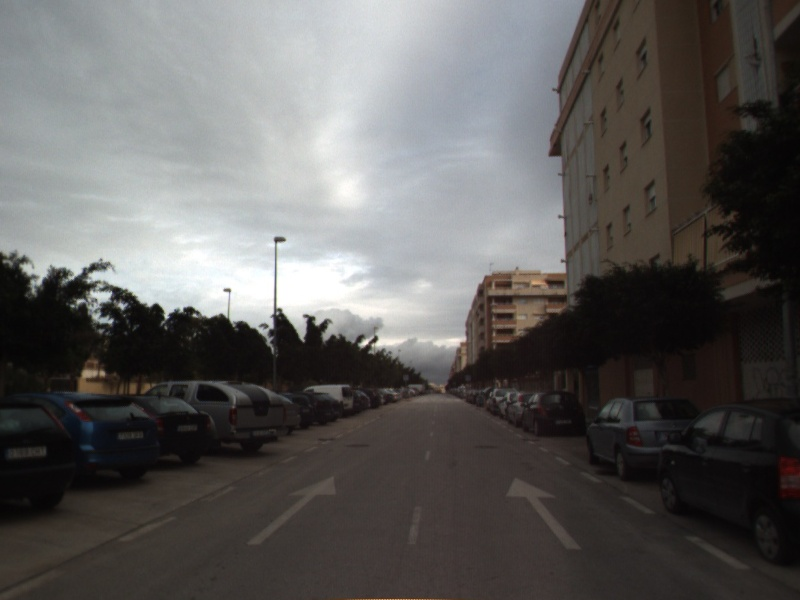STRAIGHT: (245, 474, 338, 547), (504, 475, 583, 551)
